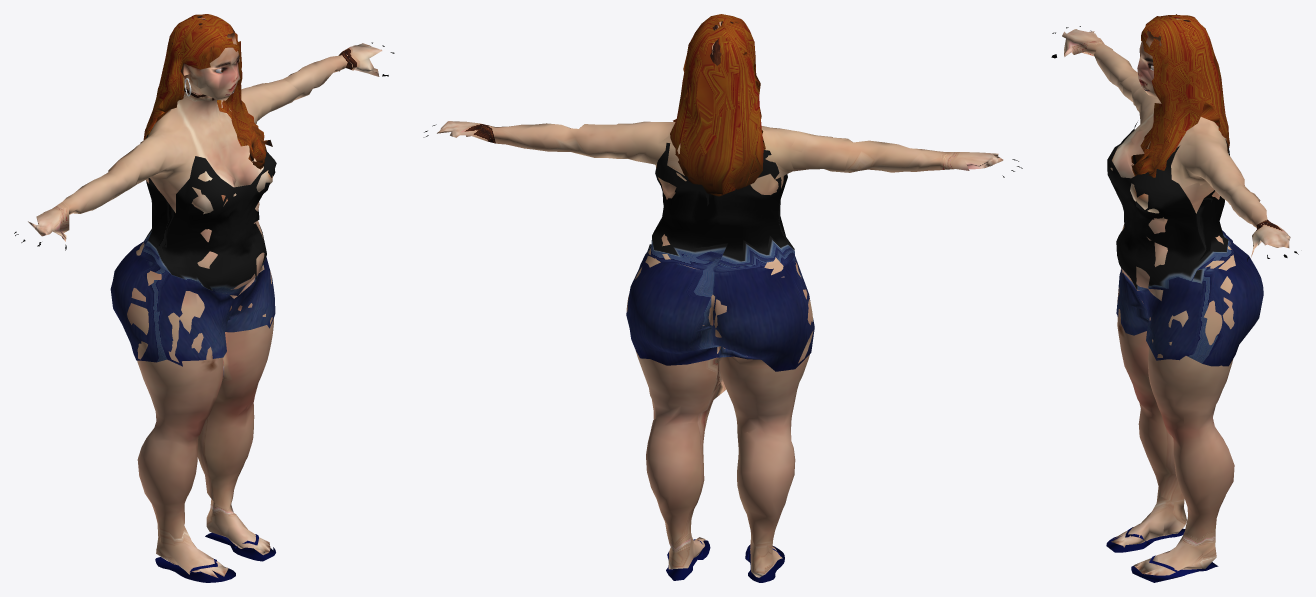
Rendered from chambray_street.glb.
3 views of the same model, side by side, from view 1: azimuth 30°, elevation 25°; view 2: azimuth 150°, elevation 25°; view 3: azimuth 270°, elevation 25° (orthographic). The views are drawn at different scales.
Parts seen in each view (by area): view 1: body; view 2: body; view 3: body.
Boxes of the visible parts, left/top/right/bottom form: body: left=14, top=14, right=394, bottom=582; body: left=423, top=14, right=1022, bottom=582; body: left=1051, top=14, right=1298, bottom=582.
Size of the model in its own units: 1.64 by 1.78 by 0.7497.
Materials: 7 (5 with a texture image).
